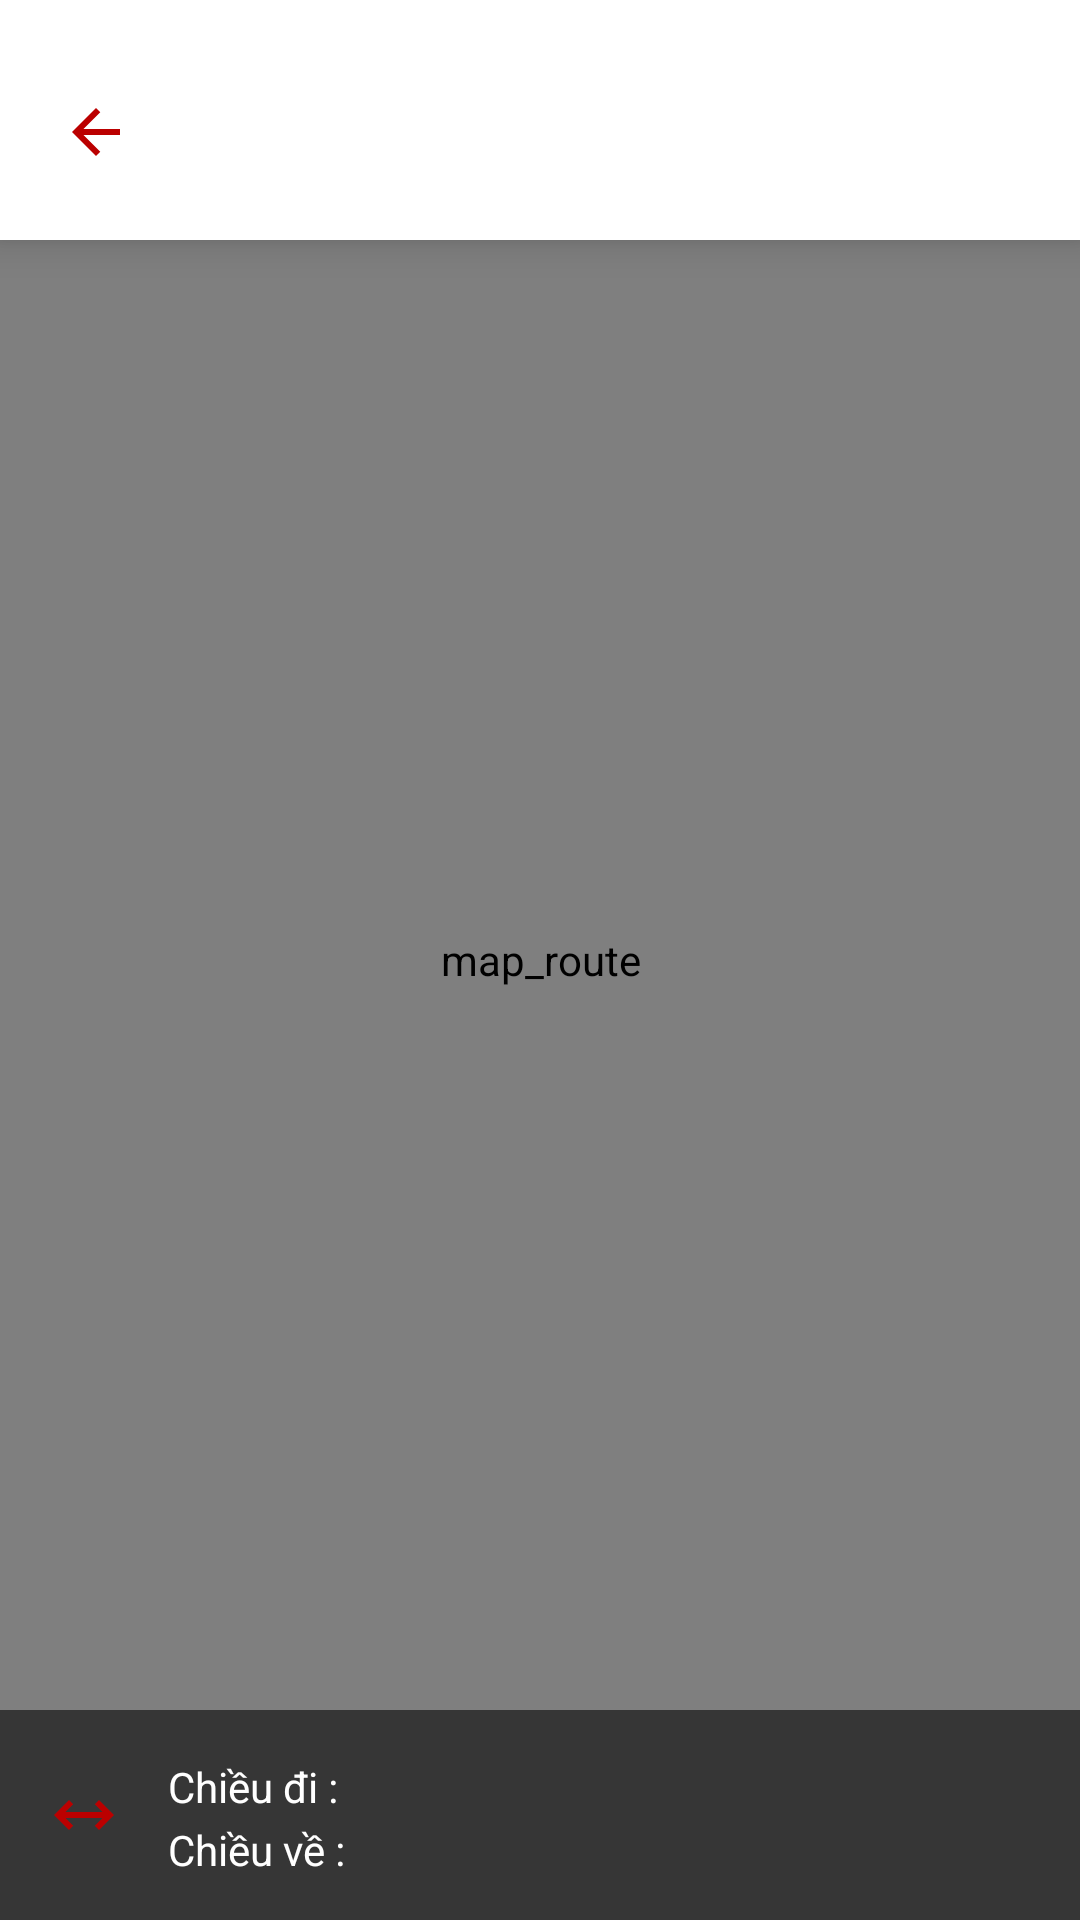

Named icons in this screenshot (1080px×1920px) and their centers, (x,y):
arrow back: (96,132)
arrow range: (84,1815)
